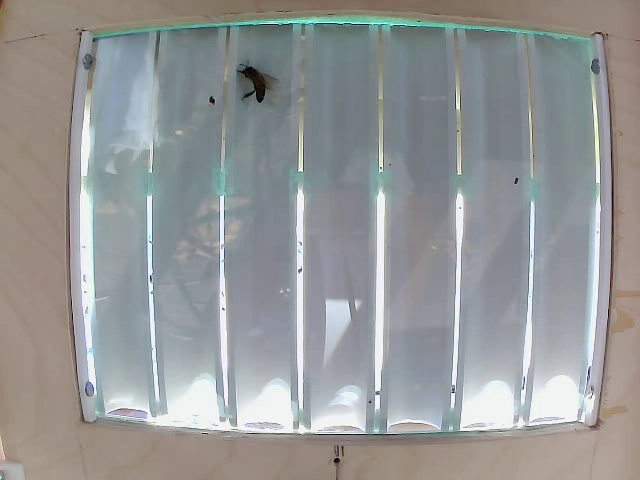bee: (232, 64, 276, 114)
